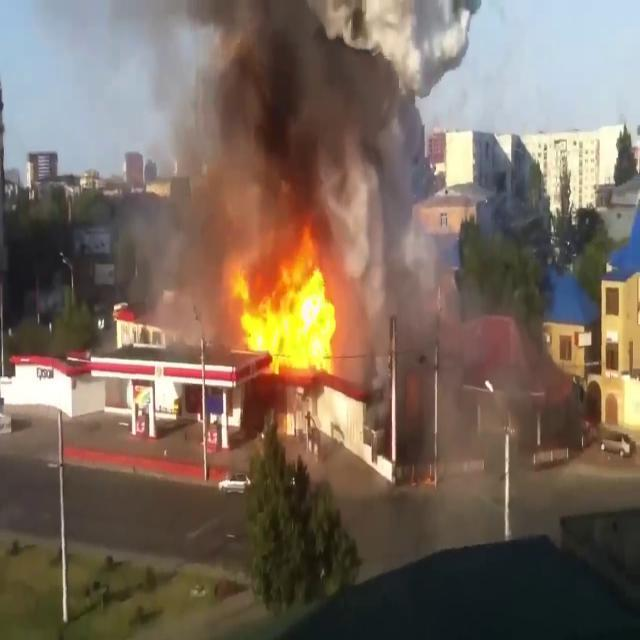Fire: (228, 246, 346, 382)
Smoke: (115, 0, 459, 297)
